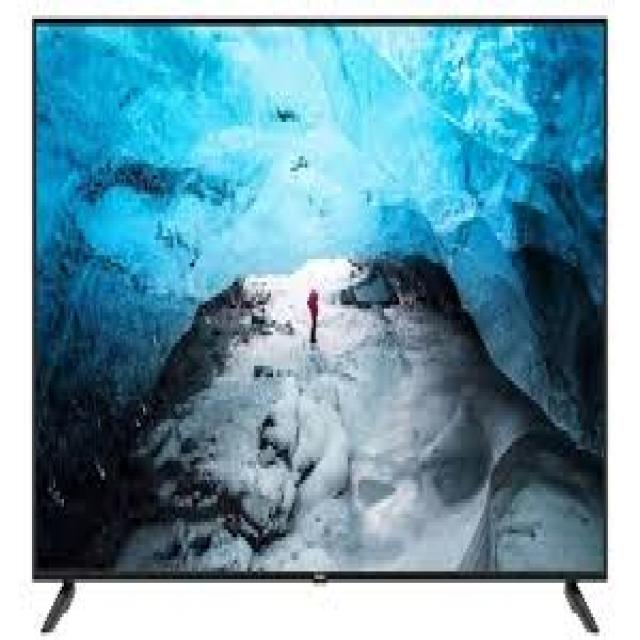tv: (28, 12, 616, 594)
